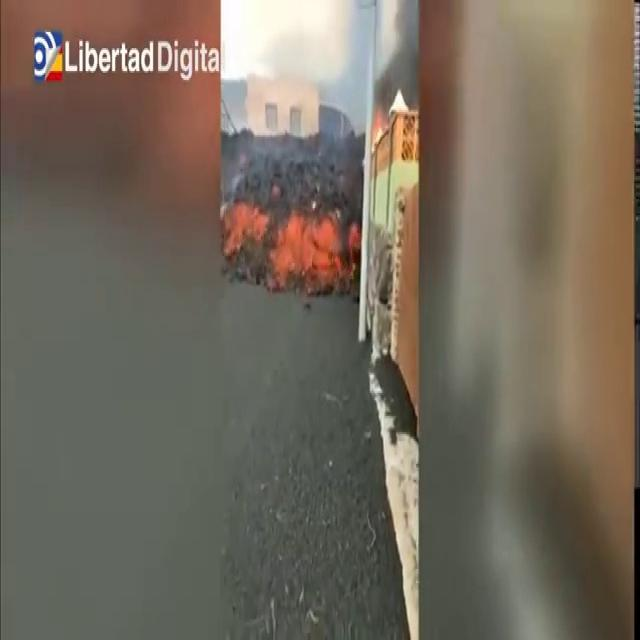Fire: (225, 193, 351, 291)
